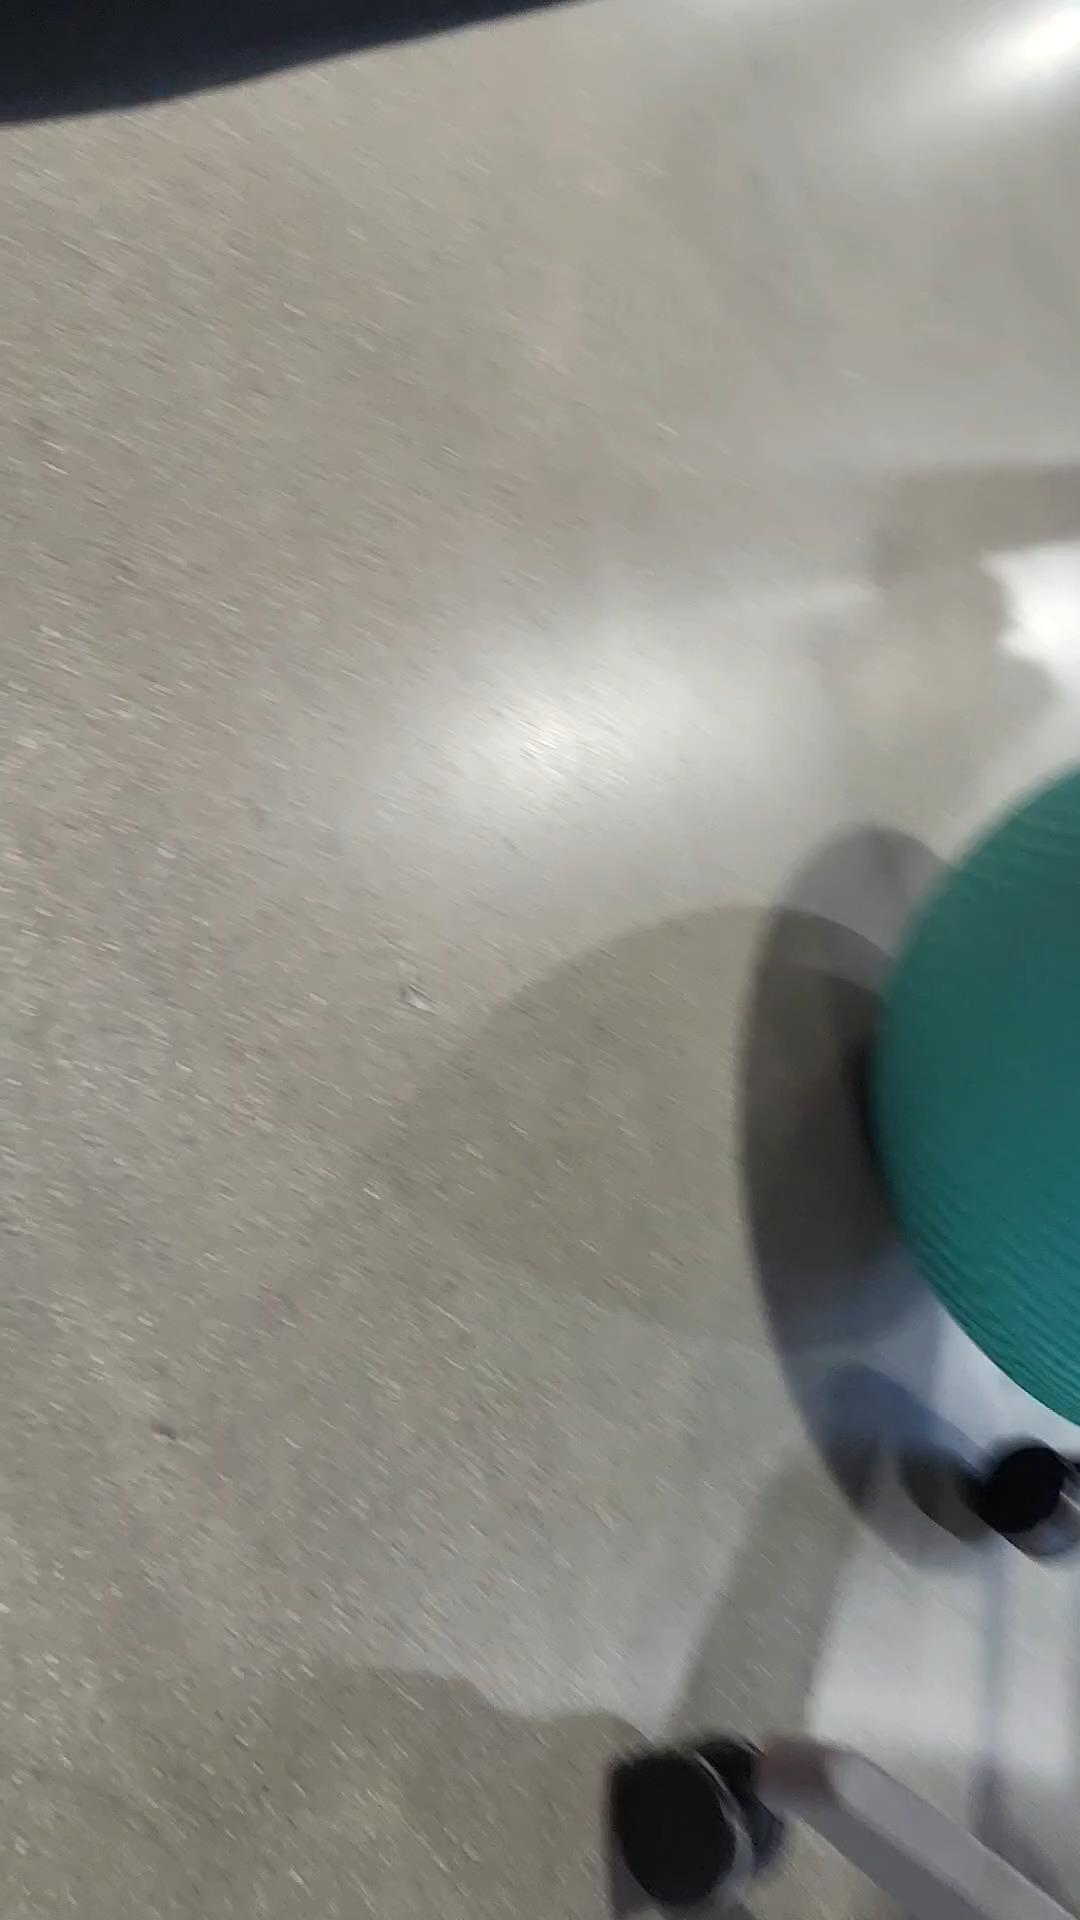algae: (880, 762, 1080, 1451)
